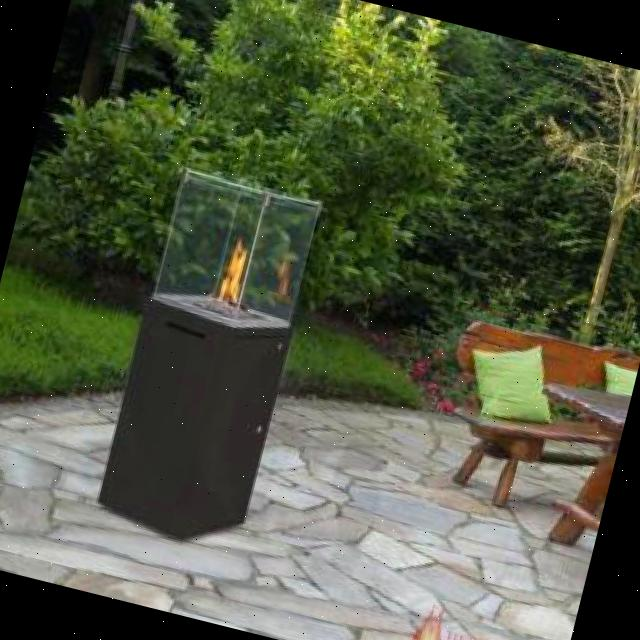fire: (201, 228, 264, 327)
